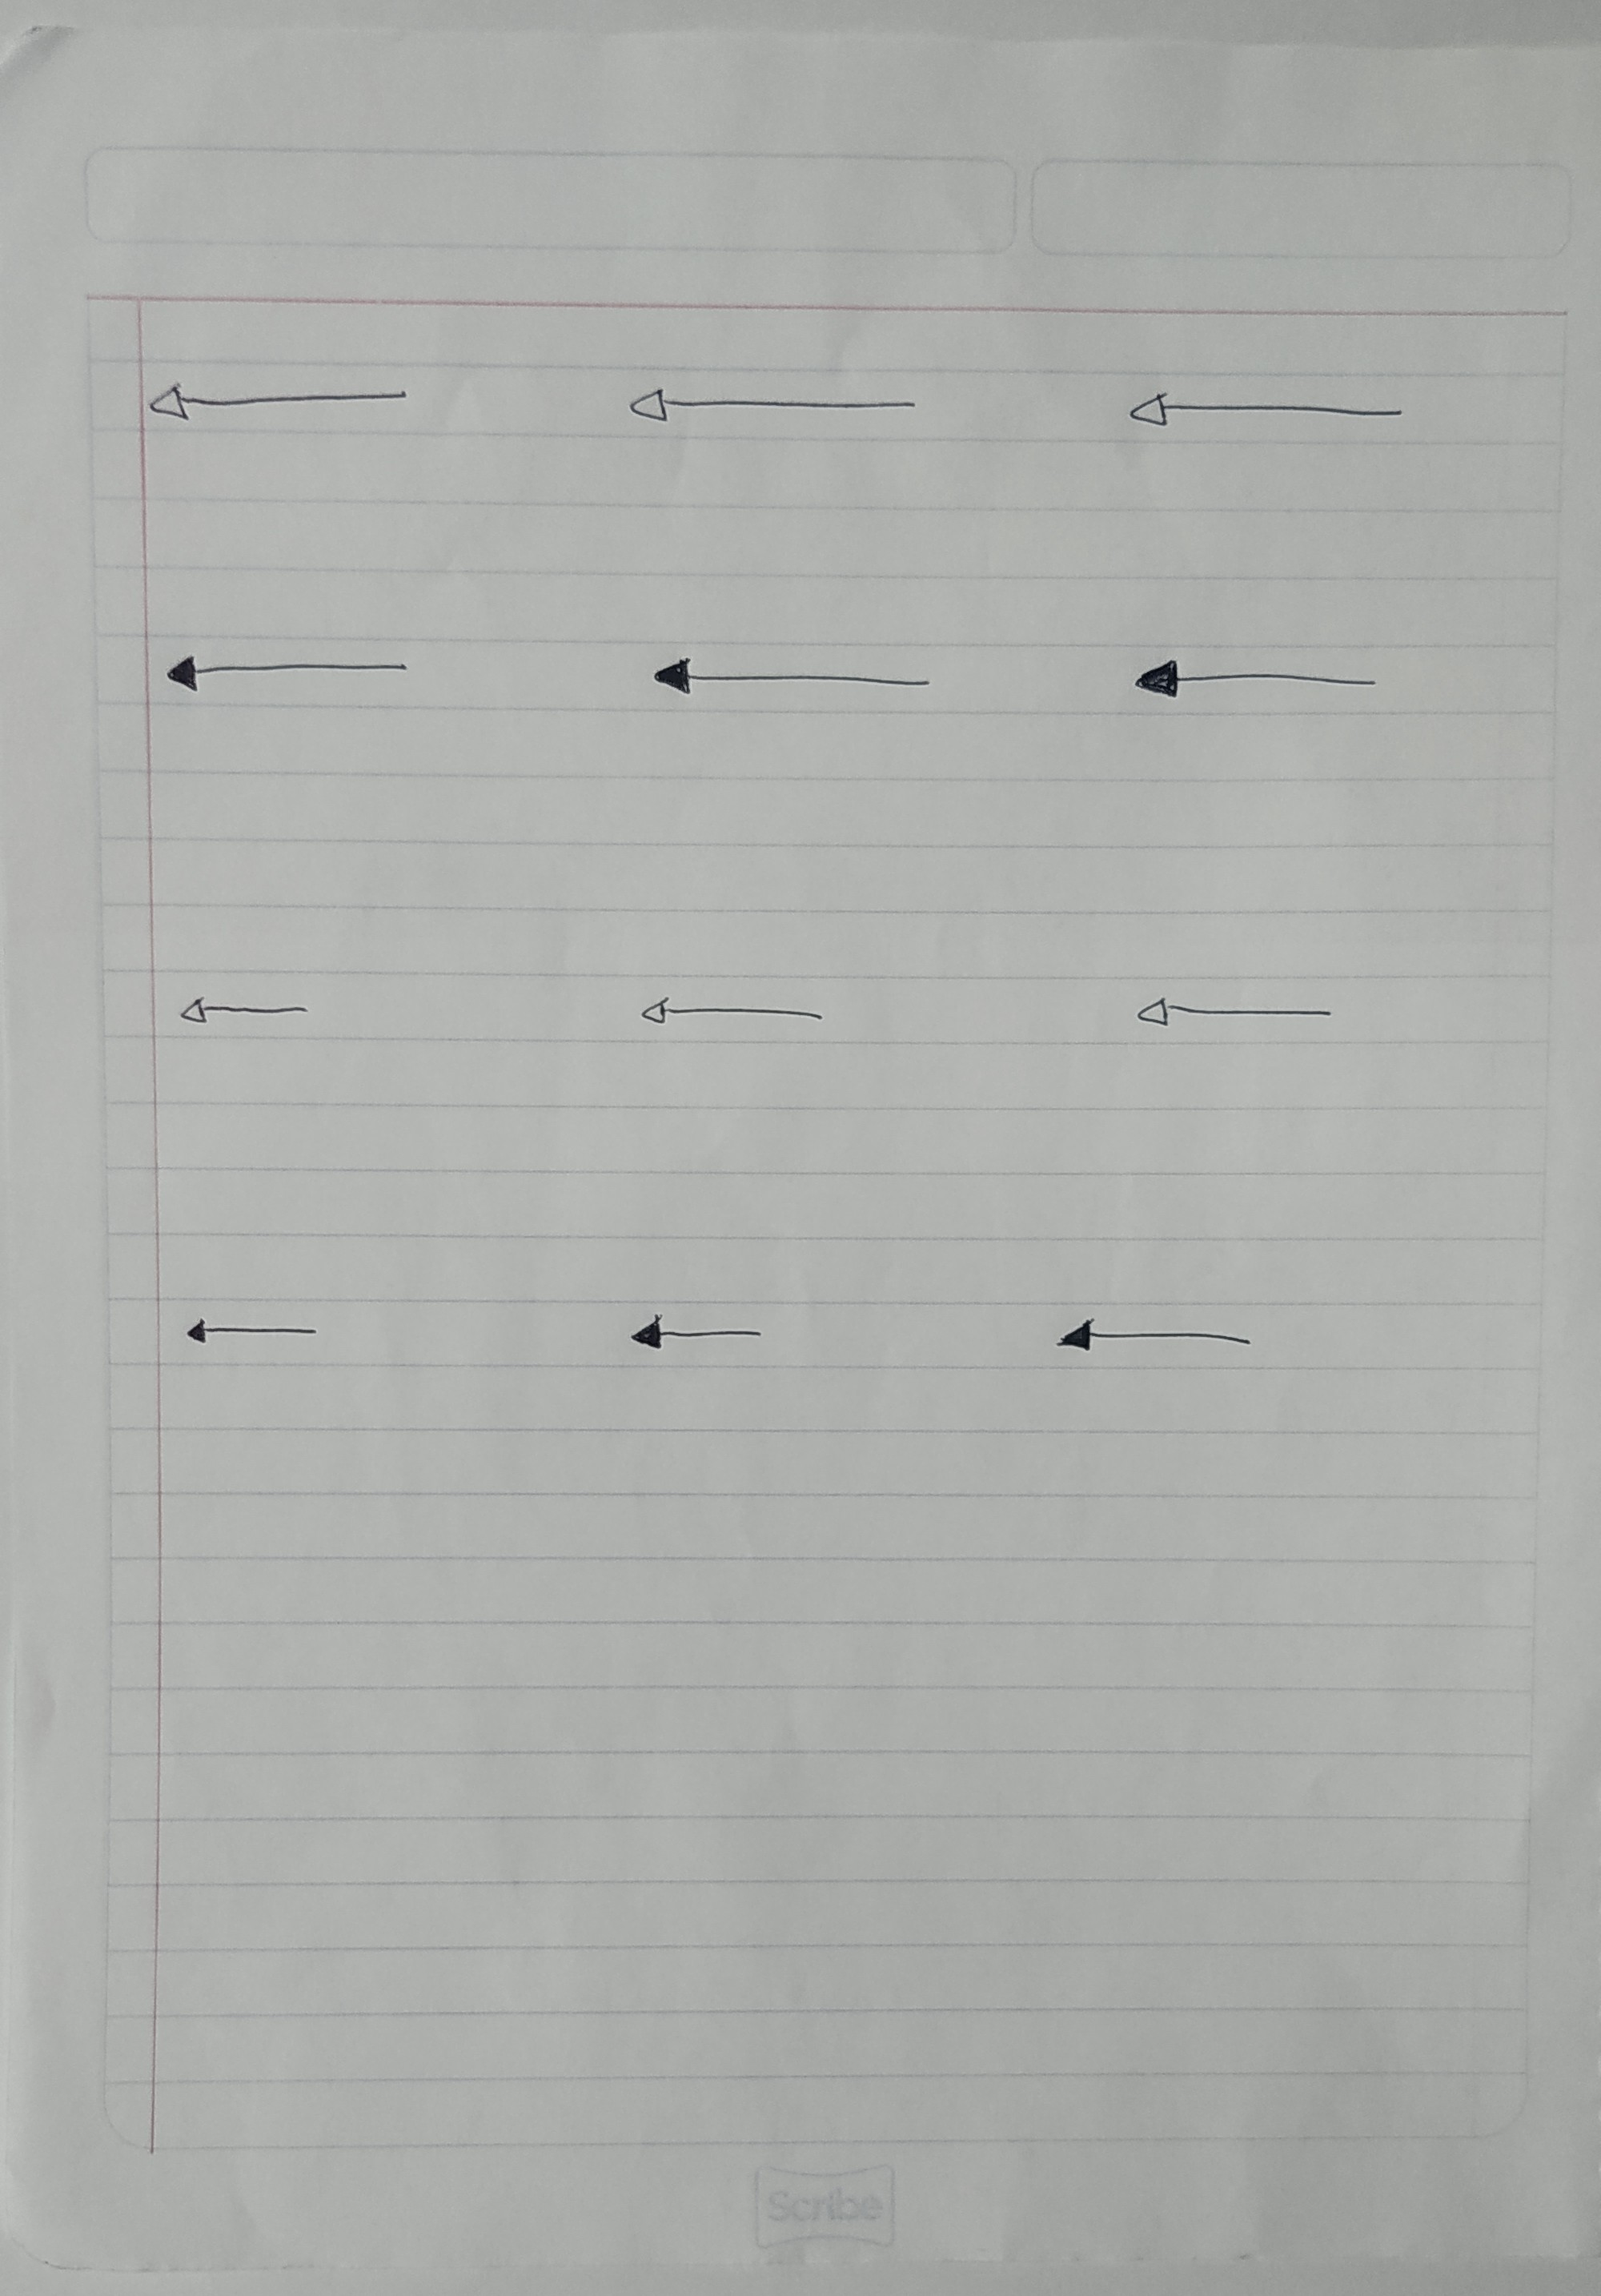arrow_line_left: (624, 382, 923, 436), (651, 651, 937, 705), (1125, 379, 1402, 433), (1130, 653, 1385, 708), (145, 379, 415, 427), (164, 646, 413, 698), (1053, 1314, 1259, 1368), (1135, 989, 1338, 1042), (637, 991, 827, 1036), (624, 1310, 766, 1356), (176, 991, 314, 1033), (181, 1314, 324, 1350)
